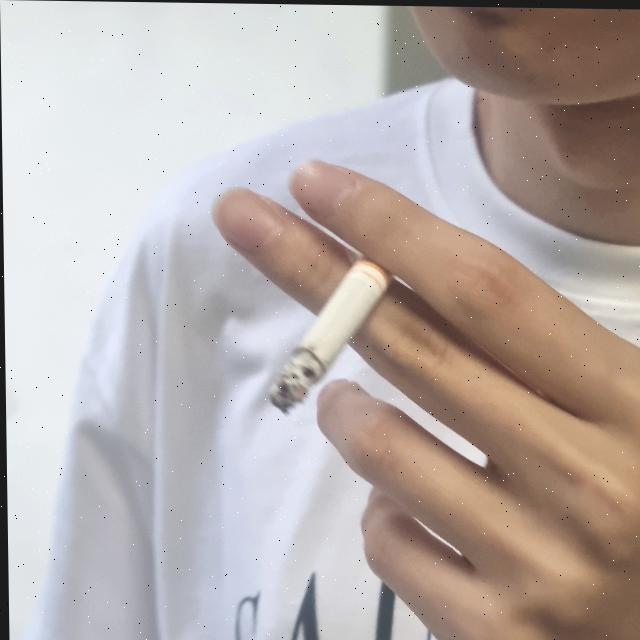cigarette: (260, 251, 393, 418)
